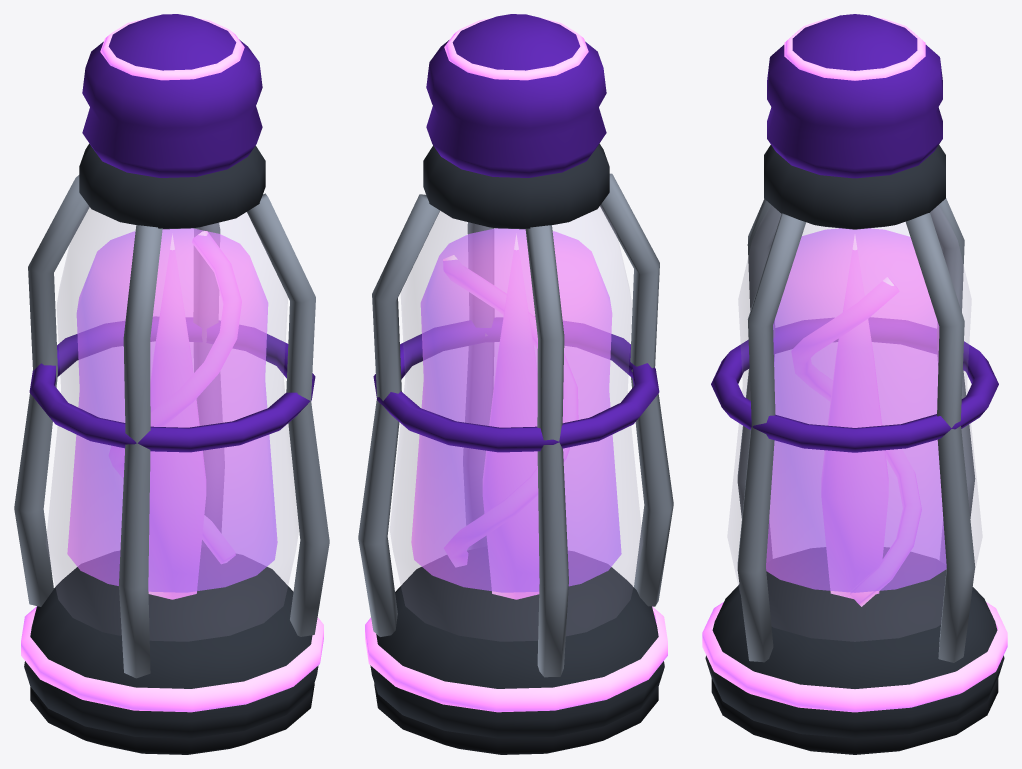
The model's file is item_mana_elixir.glb.
3 views of the same model, side by side, from view 1: azimuth 30°, elevation 25°; view 2: azimuth 150°, elevation 25°; view 3: azimuth 270°, elevation 25° (orthographic).
Parts seen in each view (by area): view 1: GlassAmpoule, ManaLiquidCore, WeightedBase, AnodizedCap, ProtectiveRib_2, CentralManaSpire, ProtectiveRib_3, WaistContainmentRing, ProtectiveRib_1, NeckCollar, BasePowerLED, ManaHelixCoil (+3 smaller); view 2: GlassAmpoule, ManaLiquidCore, WeightedBase, AnodizedCap, ProtectiveRib_1, WaistContainmentRing, ProtectiveRib_0, CentralManaSpire, ProtectiveRib_2, NeckCollar, BasePowerLED, ProtectiveRib_3 (+3 smaller); view 3: GlassAmpoule, ManaLiquidCore, WeightedBase, AnodizedCap, CentralManaSpire, ProtectiveRib_0, ProtectiveRib_3, WaistContainmentRing, NeckCollar, BasePowerLED, ManaHelixCoil, BaseFoot (+3 smaller).
Part boxes in pixels (x1,y1,x2,y2): GlassAmpoule: (46,205,298,640); ManaLiquidCore: (67,228,277,592); WeightedBase: (24,547,318,738); AnodizedCap: (82,14,262,177); ProtectiveRib_2: (119,225,162,678); CentralManaSpire: (148,233,205,599); ProtectiveRib_3: (247,193,329,636); WaistContainmentRing: (29,317,315,452); ProtectiveRib_1: (14,175,89,606); NeckCollar: (79,143,265,229); BasePowerLED: (21,606,323,712); ManaHelixCoil: (109,231,241,563); GlassAmpoule: (390,205,642,640); ManaLiquidCore: (411,228,621,592); WeightedBase: (370,547,664,738); AnodizedCap: (426,14,606,177); ProtectiveRib_1: (525,225,568,677); WaistContainmentRing: (373,318,659,452); ProtectiveRib_0: (358,194,439,636); CentralManaSpire: (483,233,539,599); ProtectiveRib_2: (600,173,673,606); NeckCollar: (423,143,609,229); BasePowerLED: (365,606,667,712); ProtectiveRib_3: (463,222,494,549); GlassAmpoule: (728,205,981,641); ManaLiquidCore: (766,228,946,592); WeightedBase: (705,547,1004,738); AnodizedCap: (767,14,942,178); CentralManaSpire: (822,234,887,598); ProtectiveRib_0: (906,213,975,662); ProtectiveRib_3: (737,213,805,662); WaistContainmentRing: (711,317,998,452); NeckCollar: (764,145,945,229); BasePowerLED: (702,602,1007,712); ManaHelixCoil: (792,277,921,606); BaseFoot: (711,678,998,754).
Size of the model in its own units: 0.196 by 0.482 by 0.196.
